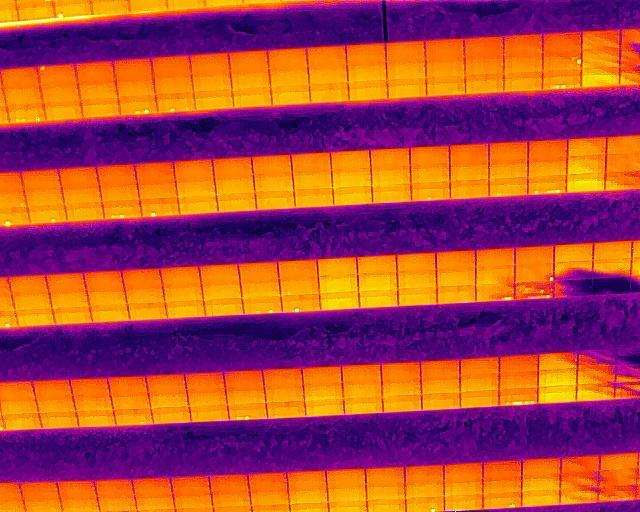Cell: (37, 65, 78, 86), (27, 206, 66, 227), (515, 264, 554, 284), (140, 197, 178, 217), (281, 294, 321, 312), (411, 182, 450, 200), (267, 400, 305, 418), (281, 277, 319, 295), (483, 493, 521, 510), (54, 0, 92, 16), (406, 497, 445, 512)
Cell-Multi: (4, 102, 45, 123), (543, 70, 581, 91), (475, 284, 514, 303), (118, 95, 157, 114), (156, 93, 195, 112), (102, 200, 139, 219), (529, 175, 567, 193), (543, 52, 581, 70), (242, 297, 281, 314), (515, 282, 554, 299), (499, 388, 537, 405)
No-Anomaly: (252, 153, 291, 176), (174, 159, 213, 181), (543, 31, 582, 53), (269, 49, 306, 72), (135, 161, 175, 182), (213, 157, 253, 178), (146, 373, 186, 394), (58, 481, 98, 502), (307, 49, 347, 70), (410, 144, 448, 166), (152, 56, 190, 78), (191, 54, 229, 76), (230, 53, 268, 75), (464, 36, 502, 58), (292, 153, 331, 174), (483, 459, 522, 480), (503, 34, 542, 55), (331, 150, 371, 170), (193, 90, 233, 110), (39, 84, 79, 104), (238, 262, 280, 281), (210, 475, 248, 496), (134, 478, 172, 499), (347, 44, 385, 65), (582, 66, 618, 88), (318, 257, 357, 277), (358, 254, 397, 274), (515, 244, 554, 264), (333, 185, 372, 205), (489, 142, 528, 162), (504, 72, 543, 92), (58, 170, 99, 189), (262, 368, 303, 387), (224, 369, 261, 390), (22, 481, 57, 503), (280, 260, 318, 280), (436, 251, 476, 270), (20, 171, 60, 190), (97, 167, 137, 186), (398, 288, 438, 307), (123, 269, 163, 288), (529, 140, 567, 160), (388, 78, 426, 98), (427, 76, 465, 96), (387, 42, 425, 62), (426, 39, 464, 59), (106, 376, 148, 394), (301, 366, 343, 384), (97, 480, 133, 501), (371, 167, 410, 186), (319, 274, 358, 293), (47, 273, 86, 292), (567, 137, 606, 156), (0, 68, 39, 87), (173, 477, 210, 497), (583, 47, 620, 67), (396, 253, 437, 271), (185, 373, 226, 391), (3, 85, 44, 103), (255, 189, 293, 208), (321, 292, 359, 311), (449, 145, 487, 164), (349, 81, 387, 100), (465, 73, 503, 92), (77, 64, 115, 83), (114, 61, 152, 80), (248, 473, 288, 491), (293, 188, 333, 206), (62, 188, 102, 206), (372, 184, 412, 202), (99, 183, 139, 201), (489, 177, 529, 195), (69, 377, 109, 395), (382, 363, 422, 381), (91, 302, 127, 322), (309, 84, 349, 102), (17, 0, 53, 20), (0, 395, 37, 414), (206, 298, 243, 317), (10, 276, 47, 295), (86, 272, 123, 291), (36, 394, 75, 412), (475, 266, 514, 284), (475, 249, 514, 267), (178, 196, 217, 214), (449, 179, 488, 197), (460, 373, 499, 391), (167, 300, 206, 318), (443, 463, 482, 481), (287, 487, 328, 504), (232, 90, 273, 107), (202, 263, 238, 282), (217, 193, 255, 211), (27, 189, 65, 207), (567, 174, 605, 192), (567, 155, 605, 173), (42, 409, 78, 428), (522, 489, 560, 507), (499, 354, 537, 372), (128, 301, 166, 319), (79, 99, 117, 117), (272, 86, 310, 104), (388, 60, 426, 78), (427, 58, 465, 76), (370, 149, 410, 166), (188, 404, 228, 421), (341, 364, 381, 381), (241, 281, 281, 298), (162, 269, 199, 287), (360, 290, 397, 308), (45, 102, 82, 120), (344, 396, 383, 413), (327, 485, 366, 502), (366, 483, 405, 500), (437, 286, 476, 303), (359, 274, 398, 291), (398, 271, 437, 288), (437, 270, 476, 287), (366, 466, 405, 483), (405, 464, 444, 481), (78, 83, 117, 100), (153, 78, 192, 95), (464, 57, 503, 74), (504, 55, 543, 72), (17, 308, 53, 326), (555, 244, 593, 261), (593, 242, 631, 259), (288, 471, 326, 488), (138, 181, 176, 198), (327, 469, 365, 486), (212, 495, 250, 512), (2, 413, 40, 430), (33, 378, 71, 395), (538, 368, 576, 385), (250, 489, 288, 506), (421, 362, 459, 379), (54, 307, 92, 324), (582, 31, 620, 48), (382, 395, 422, 411), (64, 204, 104, 220), (150, 407, 190, 423), (115, 80, 155, 96), (347, 65, 387, 81), (305, 399, 344, 415), (538, 385, 577, 401), (343, 381, 382, 397), (177, 180, 216, 196), (332, 170, 371, 186), (411, 166, 450, 182), (449, 164, 488, 180), (114, 408, 153, 424), (499, 372, 538, 388), (50, 292, 89, 308), (263, 386, 304, 401), (215, 178, 256, 193), (599, 469, 635, 486), (14, 293, 50, 310), (522, 474, 560, 490), (529, 159, 567, 175), (445, 495, 483, 511), (406, 482, 444, 498), (522, 458, 560, 474), (173, 496, 211, 512), (73, 395, 113, 410), (303, 384, 343, 399), (443, 481, 483, 496), (191, 75, 231, 90), (230, 75, 270, 90), (77, 409, 114, 425), (204, 282, 241, 298), (110, 395, 149, 410), (460, 390, 499, 405), (226, 388, 265, 403), (382, 380, 421, 395), (293, 173, 332, 188), (489, 163, 528, 178), (164, 286, 203, 301), (126, 287, 164, 302), (308, 69, 346, 84), (253, 176, 293, 190), (422, 378, 459, 393), (89, 290, 126, 305), (187, 391, 226, 405), (460, 359, 499, 373), (270, 72, 308, 86), (601, 454, 636, 469), (422, 393, 459, 407), (149, 394, 188, 407), (136, 499, 173, 512), (482, 480, 521, 492)
Shadowing: (593, 259, 630, 278), (561, 454, 599, 472), (555, 262, 592, 280), (577, 383, 615, 400), (538, 351, 576, 368), (554, 280, 592, 297), (593, 278, 630, 295), (577, 367, 616, 383), (560, 488, 599, 504), (560, 472, 599, 487), (600, 485, 636, 501), (577, 352, 615, 367)
Unclassified: (228, 403, 267, 421)
